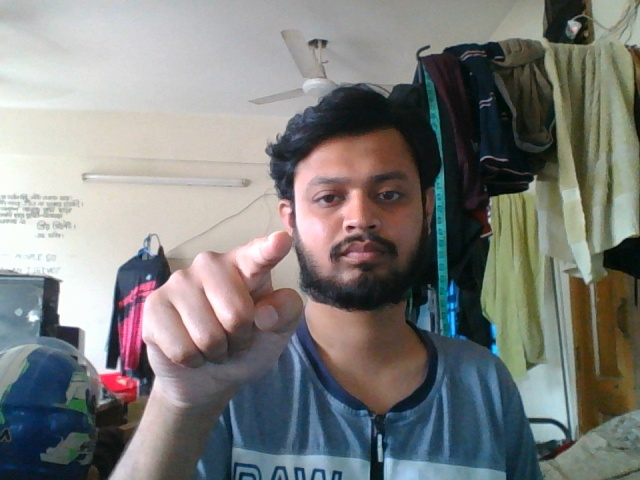tumi: (132, 225, 311, 446)
